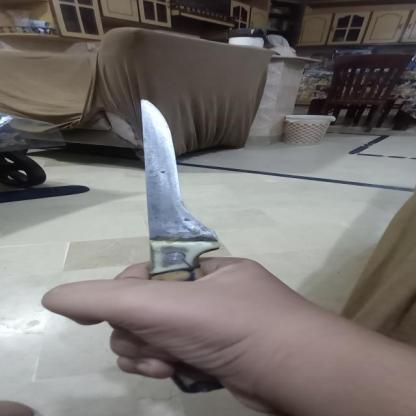Knife: (117, 89, 238, 394)
